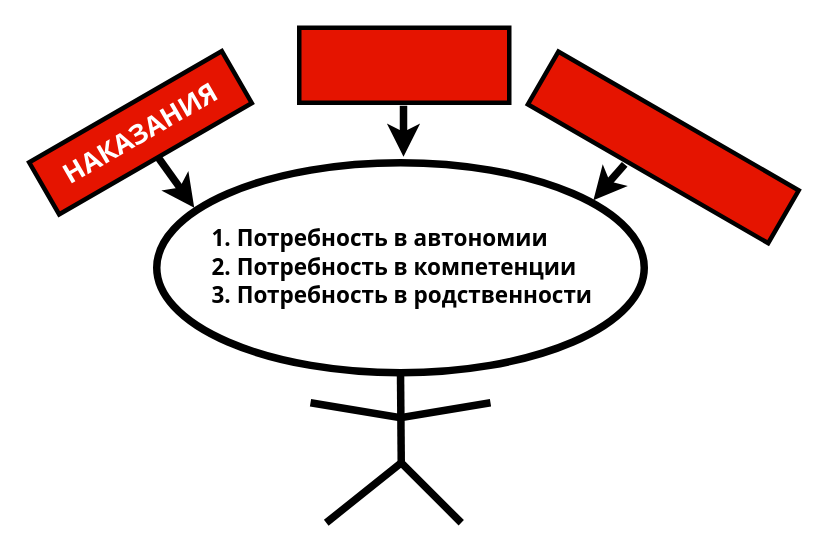
Some shapes in this 828 by 554 pixel diagram are drawn without their labels. The shapes that lost their labels are listed below. From the top down, each one's centre as x and y in pixels, then its label:
At point 403,64: "ЧУВСТВО ДОЛГА".
At point 662,146: "НАГРАЖДЕНИЯ".
